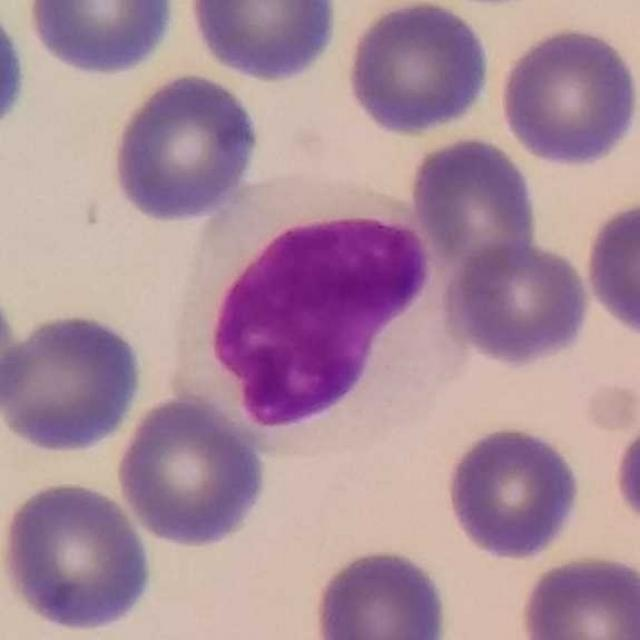Lymphocyte: (168, 171, 465, 450)
RBC: (112, 391, 272, 551), (0, 476, 156, 636), (106, 69, 264, 226), (0, 308, 148, 458), (495, 22, 640, 170), (265, 207, 435, 333), (341, 0, 495, 138), (438, 237, 596, 370), (441, 422, 585, 563), (406, 132, 541, 272), (308, 544, 453, 640), (184, 0, 342, 85), (21, 0, 183, 80), (516, 550, 640, 640), (581, 194, 640, 342), (0, 6, 31, 132), (610, 414, 640, 533)
